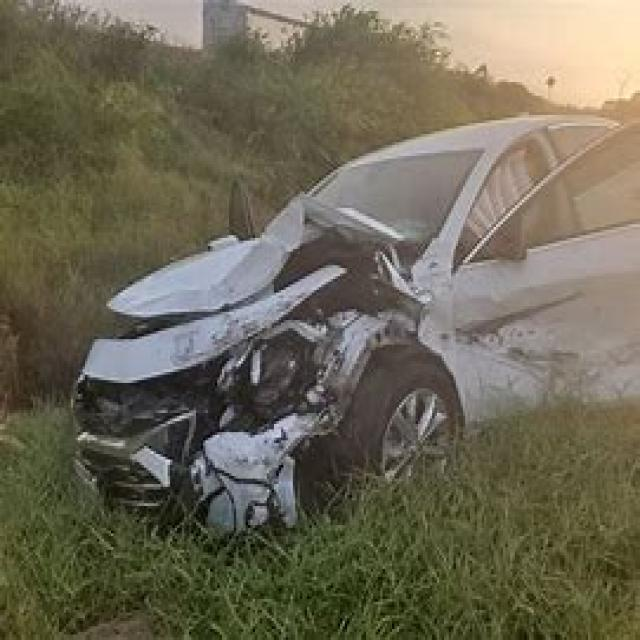Accident: (79, 106, 521, 546)
